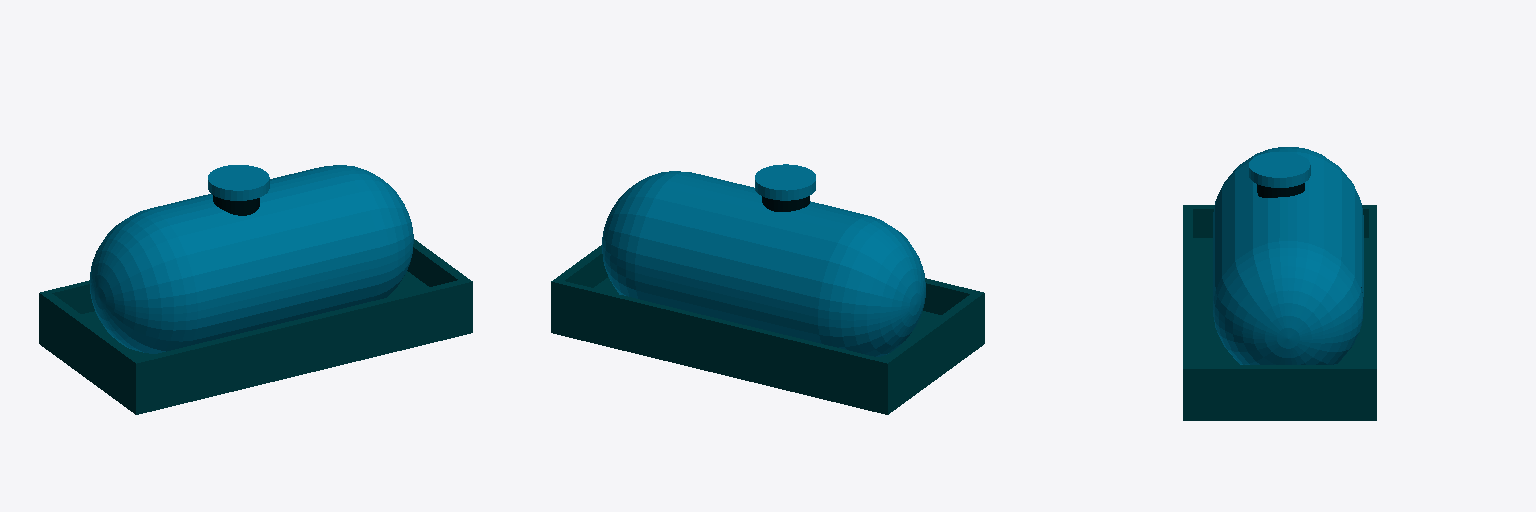
3 views of the same model, side by side, from view 1: azimuth 30°, elevation 25°; view 2: azimuth 150°, elevation 25°; view 3: azimuth 270°, elevation 25° (orthographic).
Parts seen in each view (by area): view 1: SurfSphere.001_SurfSphere.002, Cube, Cylinder.001_Cylinder.006, Cylinder_Cylinder.005; view 2: SurfSphere.001_SurfSphere.002, Cube, Cylinder.001_Cylinder.006; view 3: SurfSphere.001_SurfSphere.002, Cube, Cylinder.001_Cylinder.006.
Boxes of the visible parts, x1,y1,x2,y2 form: SurfSphere.001_SurfSphere.002: [90, 165, 413, 353]; Cube: [39, 239, 472, 414]; Cylinder.001_Cylinder.006: [208, 165, 269, 200]; Cylinder_Cylinder.005: [213, 195, 259, 215]; SurfSphere.001_SurfSphere.002: [602, 171, 925, 356]; Cube: [551, 245, 984, 414]; Cylinder.001_Cylinder.006: [755, 164, 815, 200]; SurfSphere.001_SurfSphere.002: [1213, 147, 1363, 364]; Cube: [1183, 205, 1376, 420]; Cylinder.001_Cylinder.006: [1249, 152, 1310, 187].
Size of the model in its own units: 3.6 by 1.69 by 1.8.